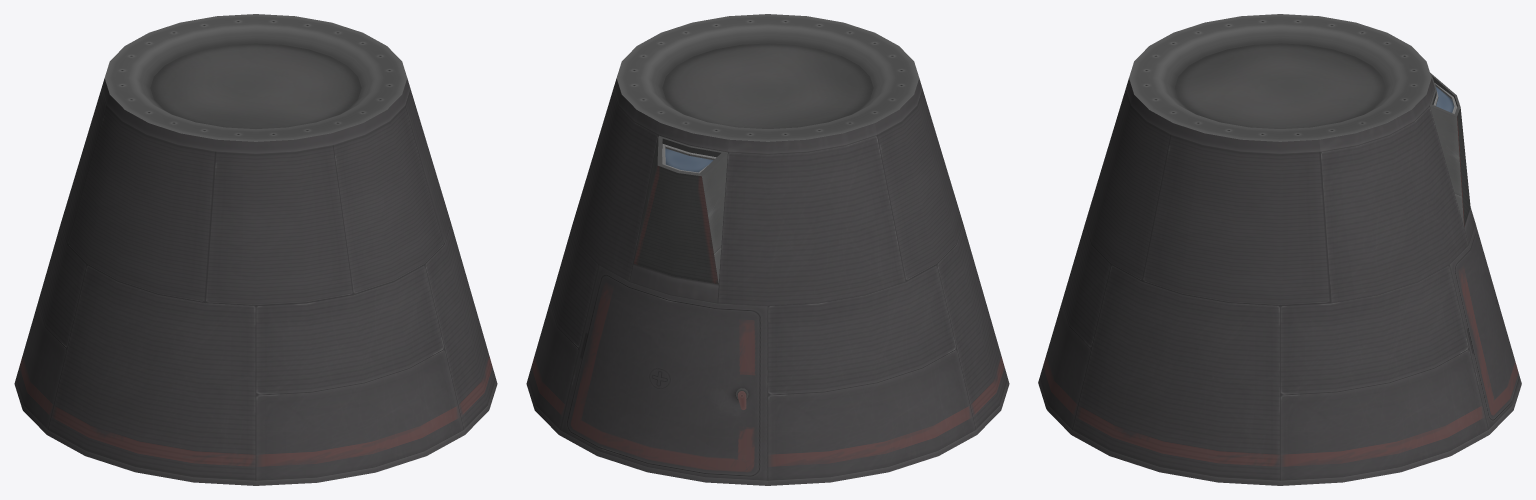
File: Gemini_Resupply_Capsule.dae
3 renders of one model, left to right at view 1: azimuth 30°, elevation 25°; view 2: azimuth 150°, elevation 25°; view 3: azimuth 270°, elevation 25°, orthographic.
Parts seen in each view (by area): view 1: Gemini_Resupply_A_Gemini_Resupply_A_auv1; view 2: Gemini_Resupply_A_Gemini_Resupply_A_auv1, Window; view 3: Gemini_Resupply_A_Gemini_Resupply_A_auv1.
Boxes of the visible parts, x1=… form: Gemini_Resupply_A_Gemini_Resupply_A_auv1: x1=14, y1=14, x2=497, y2=485; Gemini_Resupply_A_Gemini_Resupply_A_auv1: x1=526, y1=14, x2=1009, y2=485; Window: x1=665, y1=148, x2=713, y2=172; Gemini_Resupply_A_Gemini_Resupply_A_auv1: x1=1038, y1=14, x2=1521, y2=485.
Size of the model in its own units: 1.5 by 1.05 by 1.5.
